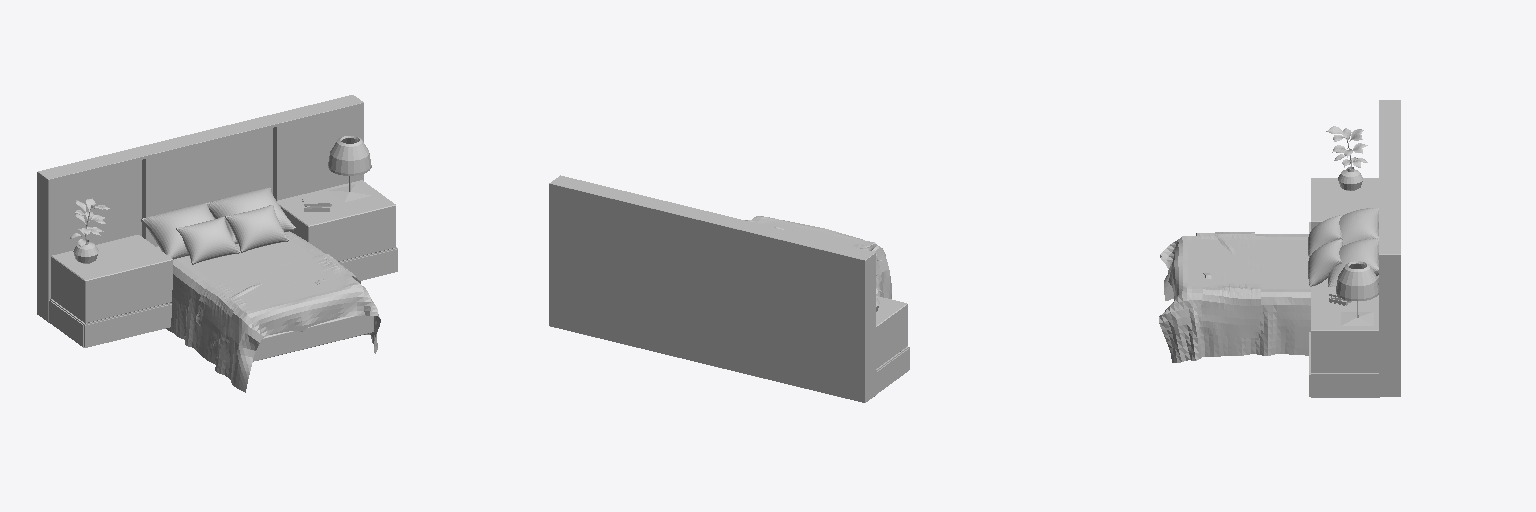
File: Bed.obj
3 views of the same model, side by side, from view 1: azimuth 30°, elevation 25°; view 2: azimuth 150°, elevation 25°; view 3: azimuth 270°, elevation 25° (orthographic).
Parts seen in each view (by area): view 1: pCube27, pPlane2, pCube31, pCube30, pPlane4, pCube28, pCube1, pCube24, pCube37, pCube26, pCube23, pCube21 (+2 smaller); view 2: pCube27, pCube31, pPlane2, pCube28; view 3: pPlane2, pCube27, pPlane4, pCube30, pCube31, pCube37, pCube41, pCube24, pCube21, pCube26, rubberPlant1Main, pCube23.
Boxes of the visible parts, <box> form: pCube27: <box>37,95,363,322</box>; pPlane2: <box>166,231,380,392</box>; pCube31: <box>51,235,172,323</box>; pCube30: <box>277,180,395,261</box>; pPlane4: <box>195,254,360,361</box>; pCube28: <box>49,299,171,347</box>; pCube1: <box>253,315,373,361</box>; pCube24: <box>141,203,214,259</box>; pCube37: <box>328,136,371,201</box>; pCube26: <box>225,205,288,252</box>; pCube23: <box>176,217,239,264</box>; pCube21: <box>207,187,295,243</box>; pCube27: <box>549,175,875,402</box>; pCube31: <box>876,296,907,368</box>; pPlane2: <box>752,216,891,298</box>; pCube28: <box>876,346,909,394</box>; pPlane2: <box>1159,234,1327,362</box>; pCube27: <box>1379,100,1400,396</box>; pPlane4: <box>1196,232,1261,337</box>; pCube30: <box>1311,287,1378,372</box>; pCube31: <box>1311,178,1378,230</box>; pCube37: <box>1336,261,1378,325</box>; pCube41: <box>1309,332,1379,397</box>; pCube24: <box>1339,208,1378,245</box>; pCube21: <box>1328,239,1378,286</box>; pCube26: <box>1308,239,1342,286</box>; rubberPlant1Main: <box>1326,126,1367,169</box>; pCube23: <box>1308,215,1342,257</box>.
Bounding box in the file's own units: 16.15 × 7.67 × 10.75.